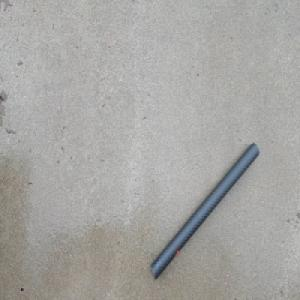LuggagePart: (151, 138, 260, 279)
